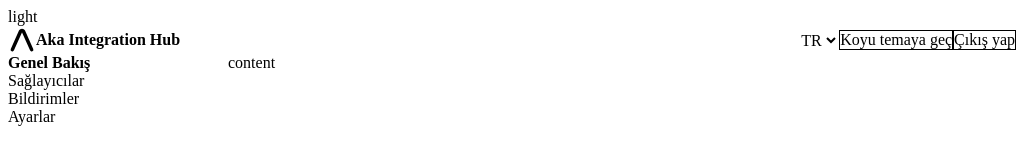
Test case: AppShell › renders Turkish navigation and switches to English
Expected: the navigation bar named "Ana menü" is shown, [8,54,90,125]
Select "EN" in the dropdown named "Dil" at coordinates (818, 40), box [797,30,839,50]
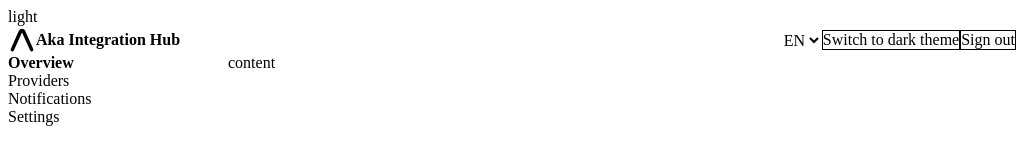
Result: the navigation bar named "Main navigation" is shown at [8,54,92,125]
Result: the link "Overview" is shown at [8,54,74,71]
